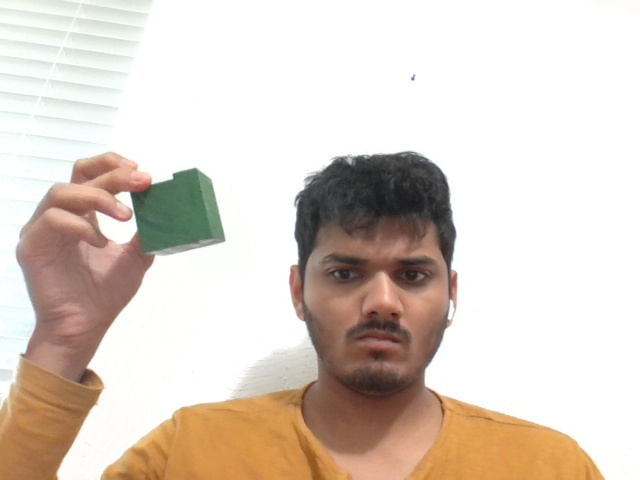GreenBlock: (130, 168, 226, 255)
